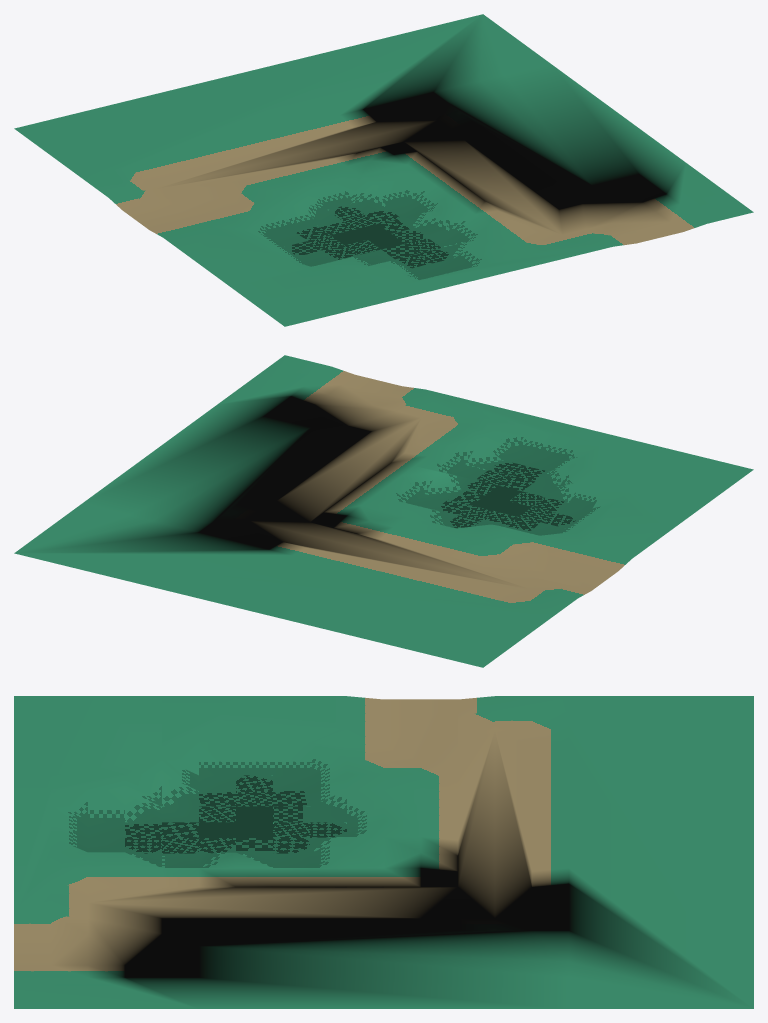
Rendered from park_ground_ne.glb.
3 views of the same model, one above another, from view 1: azimuth 30°, elevation 25°; view 2: azimuth 150°, elevation 25°; view 3: azimuth 270°, elevation 25° (orthographic). The views are drawn at different scales.
Visible parts, largest first — view 1: park_ground_ne; view 2: park_ground_ne; view 3: park_ground_ne.
Boxes of the visible parts, left/top/right/bottom form: park_ground_ne: left=14, top=14, right=753, bottom=326; park_ground_ne: left=14, top=355, right=753, bottom=667; park_ground_ne: left=14, top=696, right=753, bottom=1008.
Size of the model in its own units: 40 by 1 by 40.
Materials: 1 (1 with a texture image).
